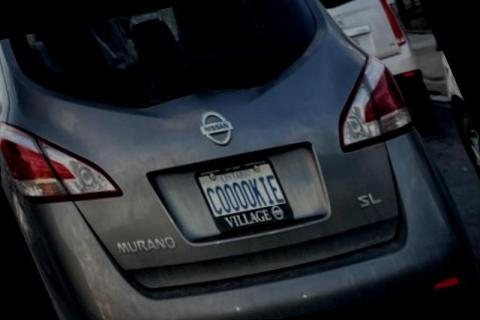LicensePlate: (190, 156, 294, 233)
